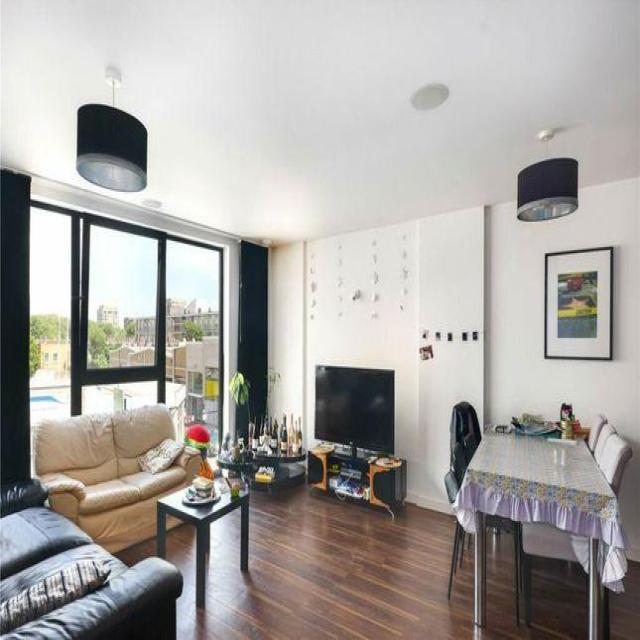Wall: (0, 0, 460, 241), (405, 1, 640, 215), (166, 482, 472, 639), (168, 484, 472, 639), (270, 220, 430, 503), (485, 178, 639, 421), (416, 206, 484, 507), (535, 360, 640, 502), (480, 534, 586, 638), (481, 536, 586, 639), (611, 563, 640, 638), (621, 499, 640, 558), (119, 541, 156, 564)
